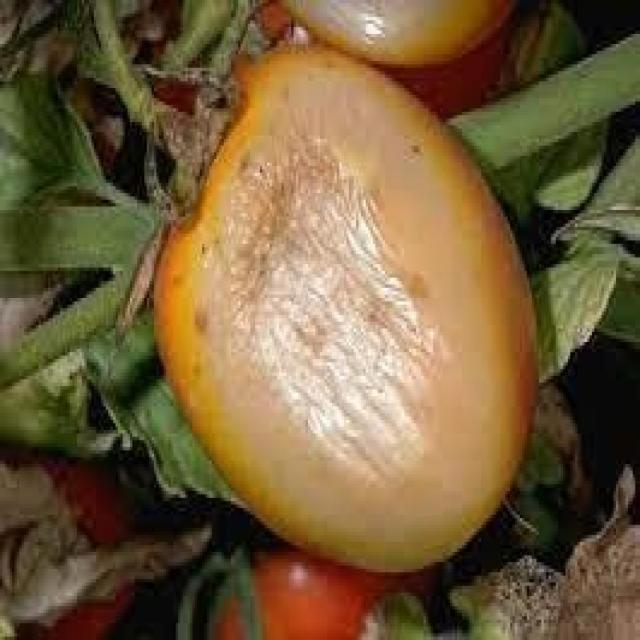Sunscald Fruit: (128, 36, 350, 370)
